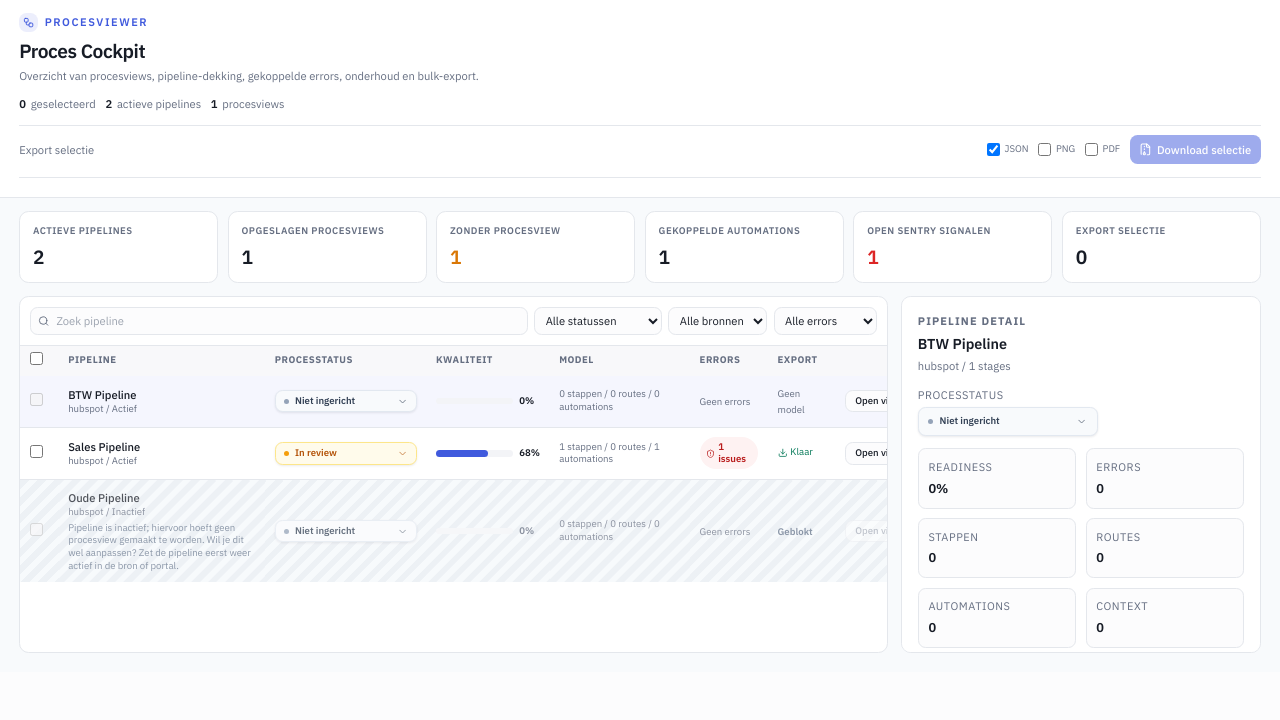
Test: Procesviewer cockpit › selects pipelines for bulk export and enables the export button
The image size is (1280, 720).
expect the button "Download selectie" is disabled: met, box [1130,135,1261,164]
Click the checkbox named "Selecteer Sales Pipeline" at (36, 451), box [30,445,43,458]
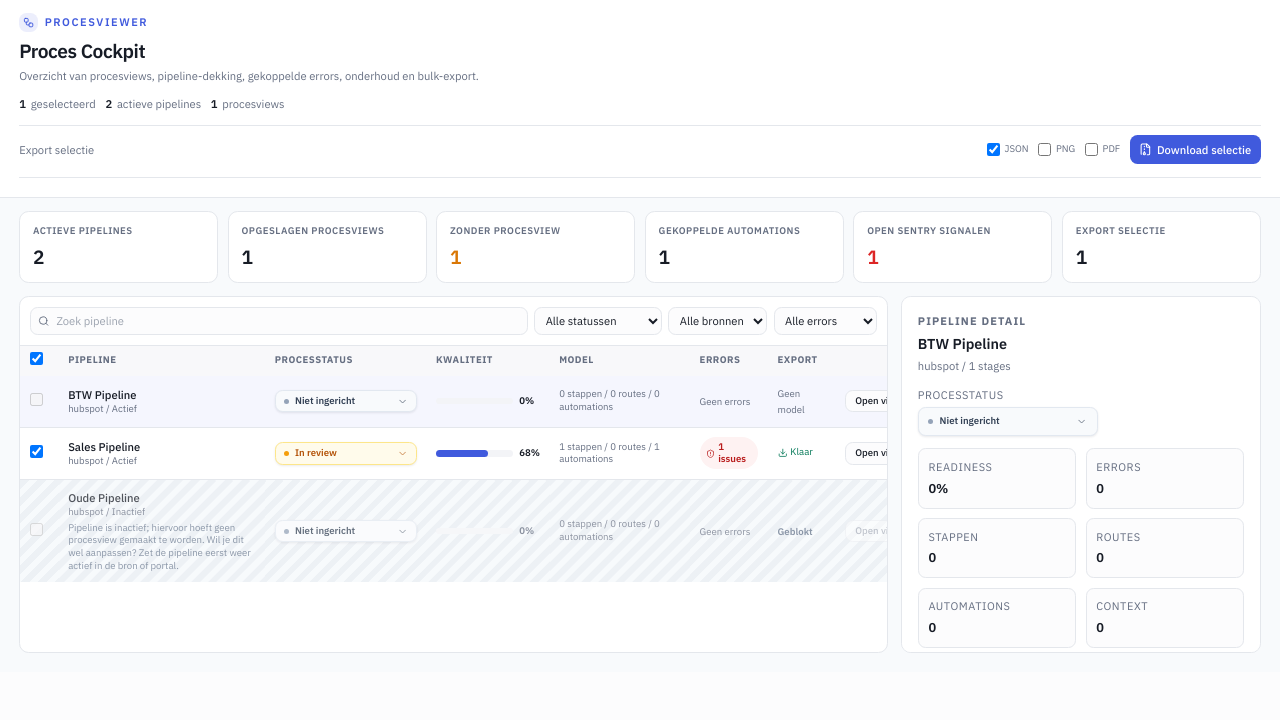
expect the button "Download selectie" is enabled: met, box [1130,135,1261,164]
